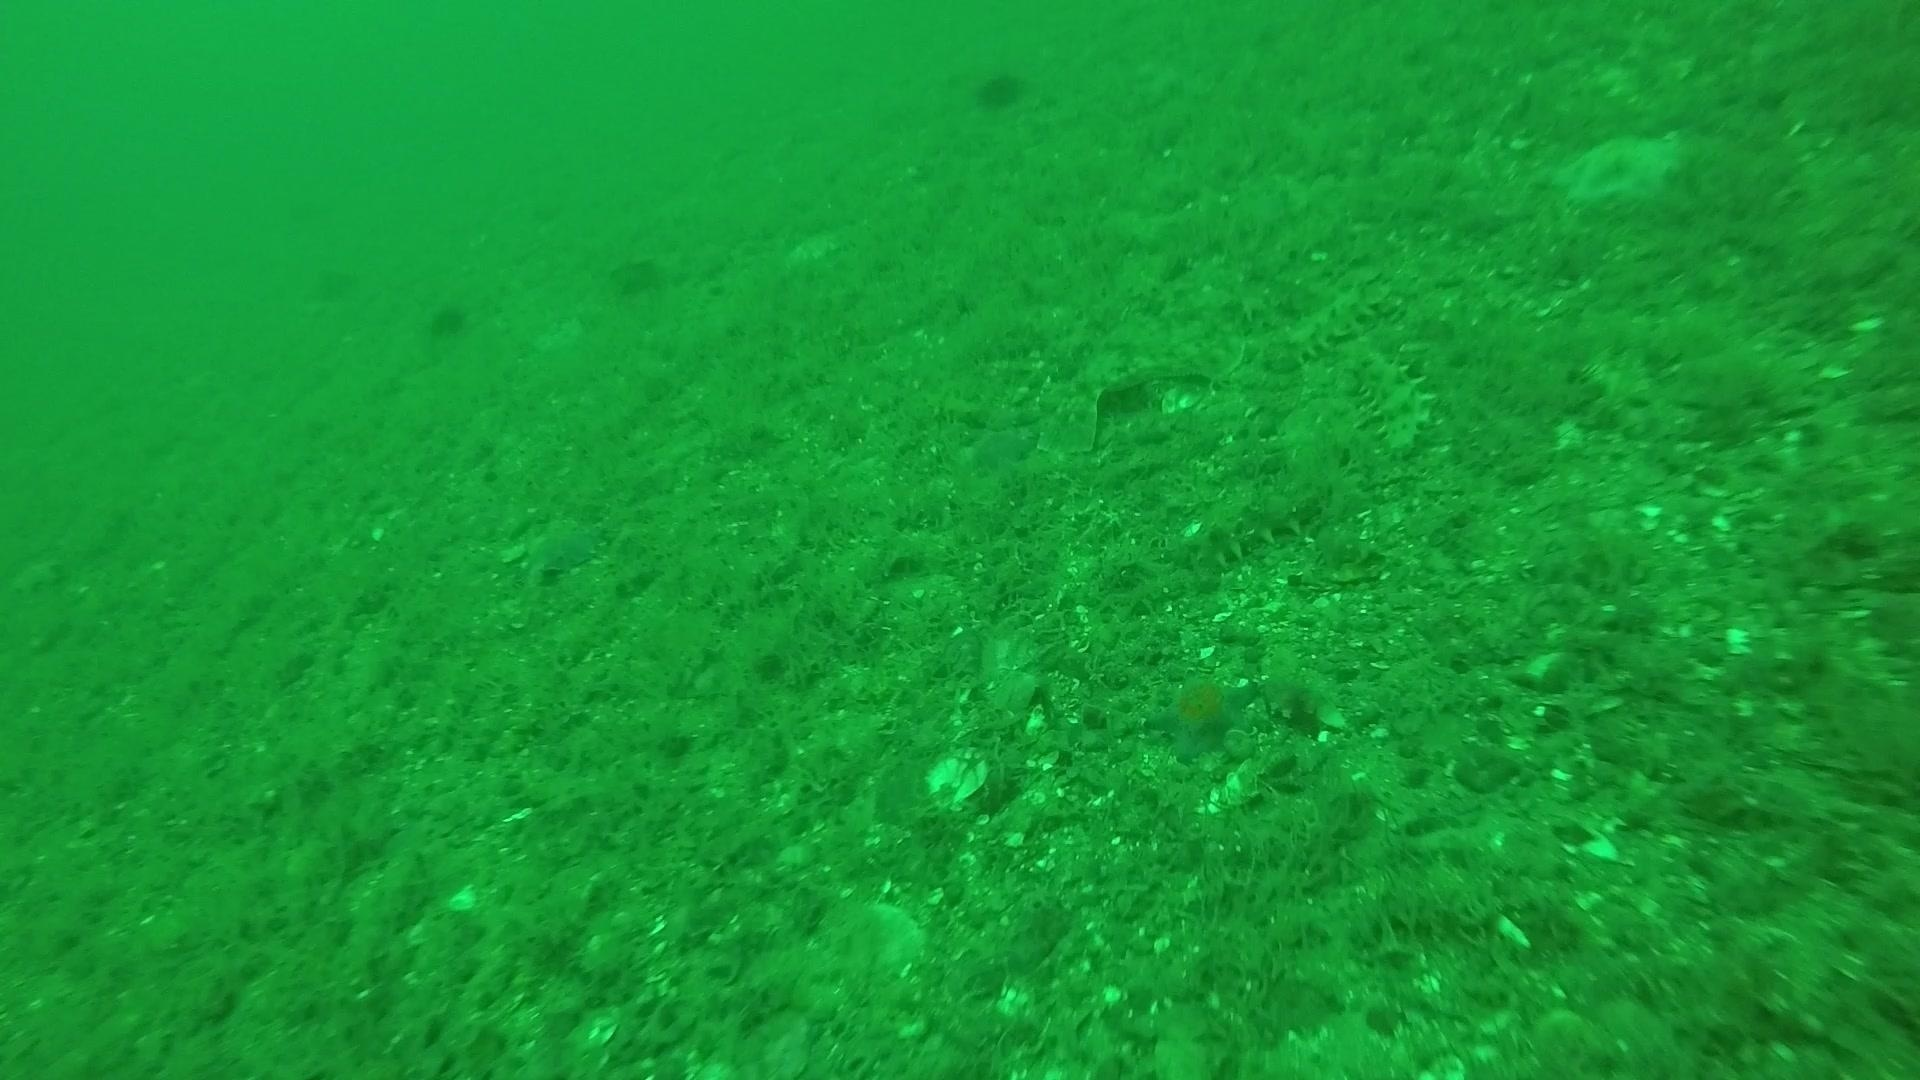echinus: (607, 249, 670, 302), (971, 62, 1030, 113), (423, 295, 473, 342)
holothurian: (1168, 469, 1328, 578), (1336, 338, 1441, 463)
starfish: (1544, 124, 1693, 218), (1139, 663, 1259, 762), (1568, 345, 1658, 433), (509, 512, 611, 585), (963, 419, 1044, 476)
